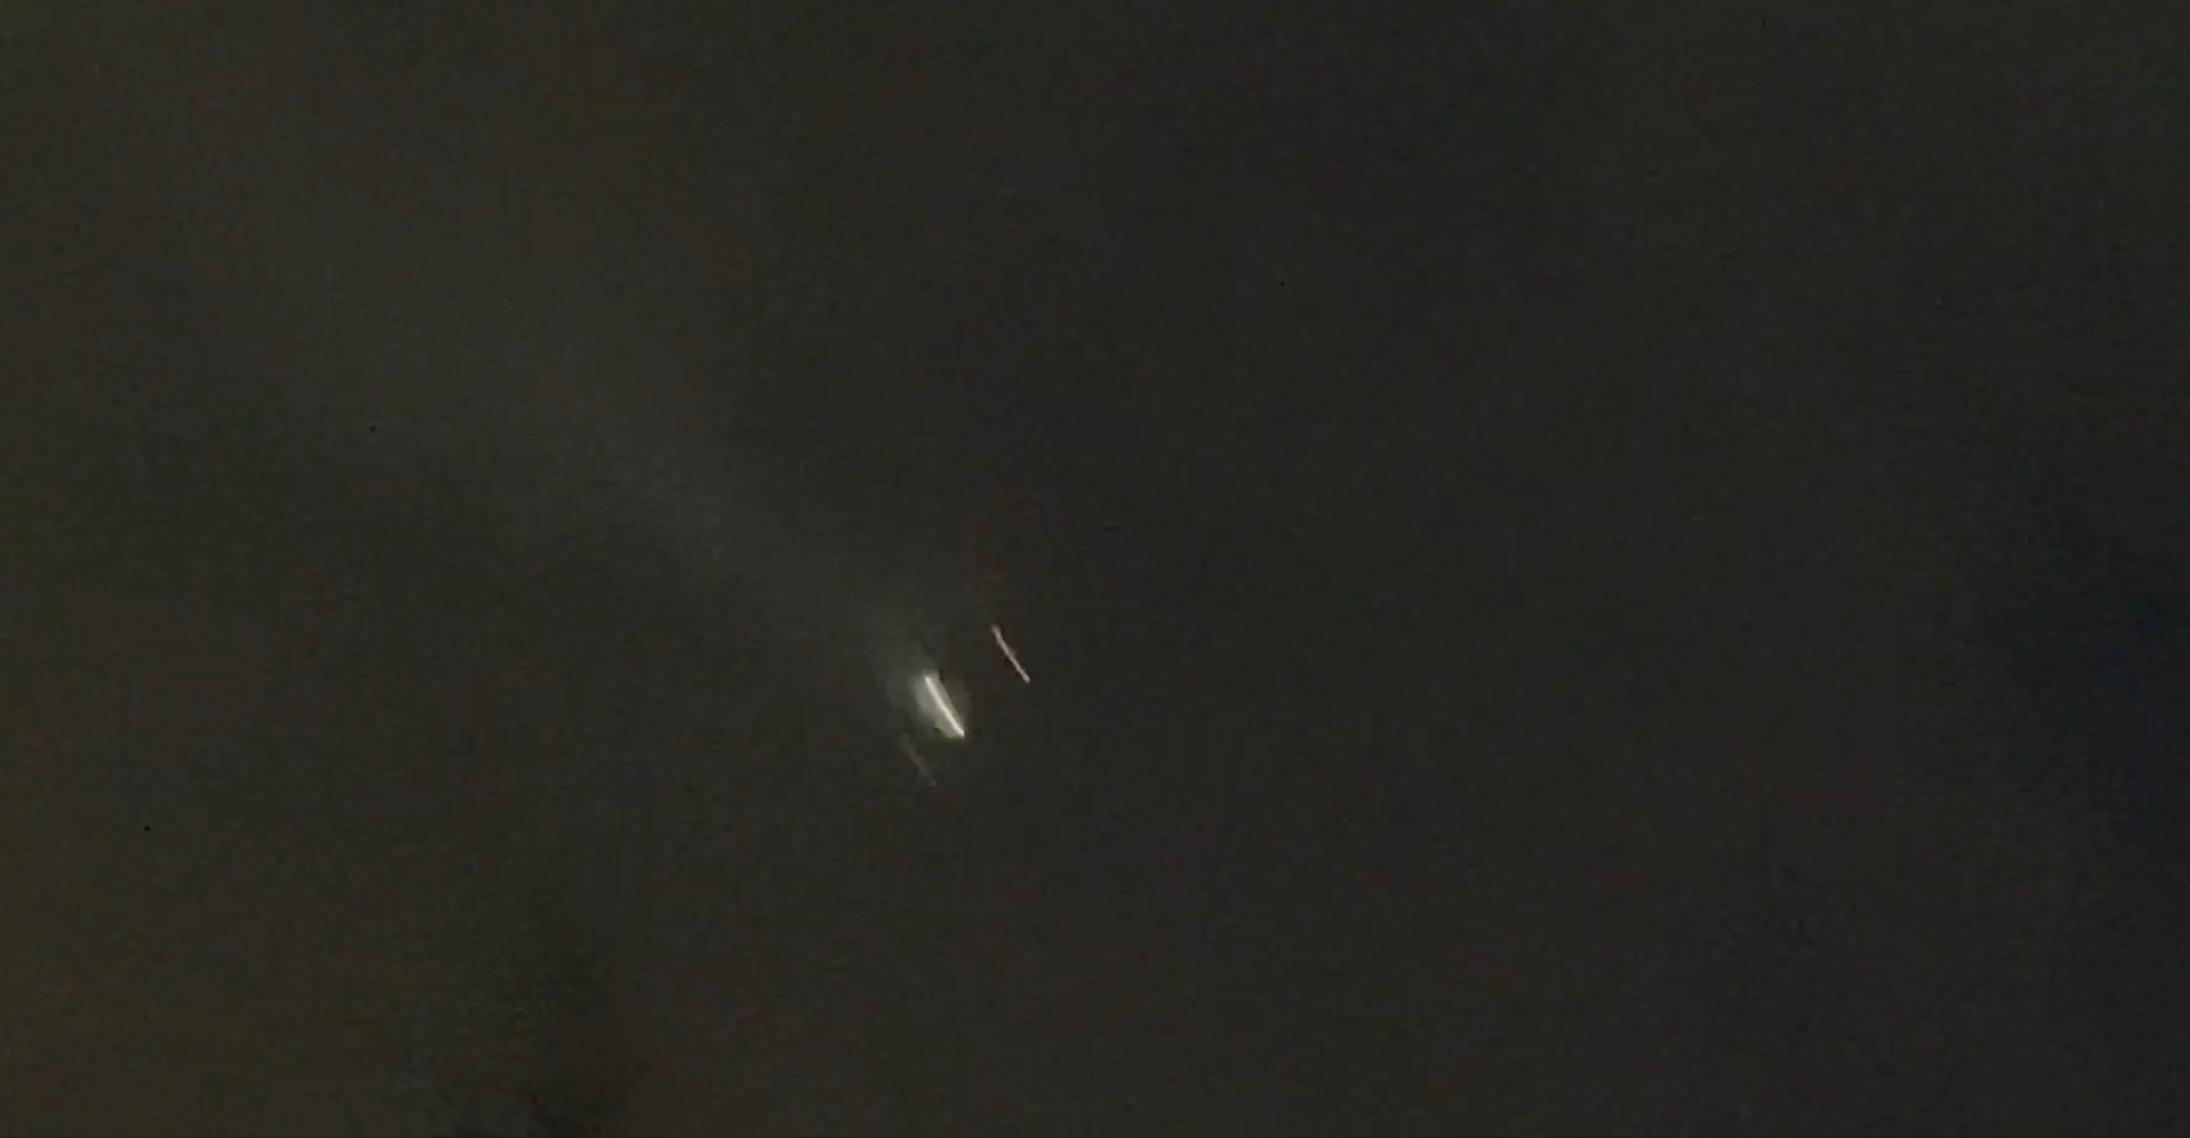Plane: (873, 591, 1056, 805)
